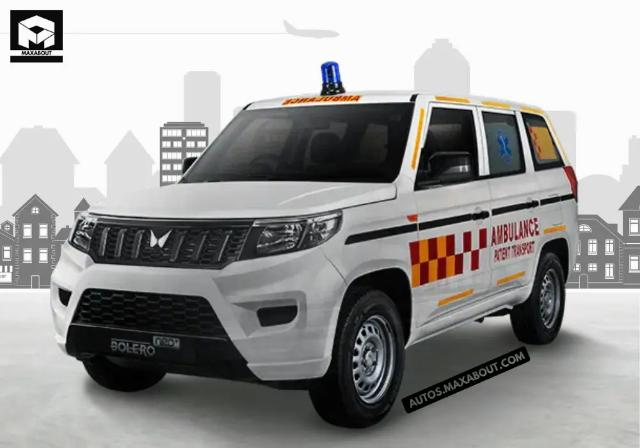ambulance: (48, 47, 585, 428)
